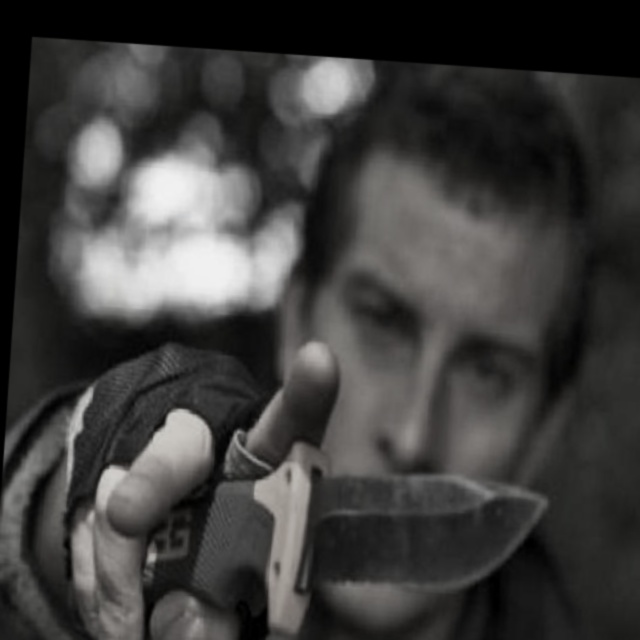Sharp-Object: (142, 433, 549, 640)
